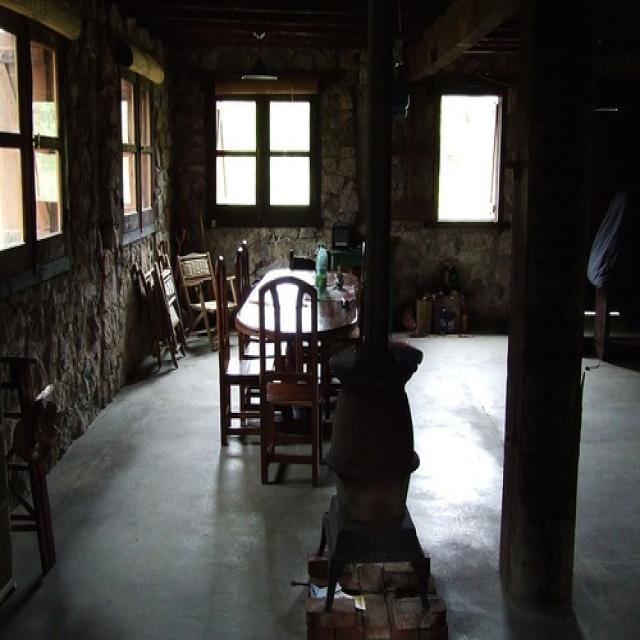chair: (259, 275, 320, 488), (212, 253, 276, 447), (233, 248, 291, 418), (177, 249, 239, 352), (287, 248, 334, 272), (241, 236, 251, 295)
diningtable: (235, 265, 361, 435)
